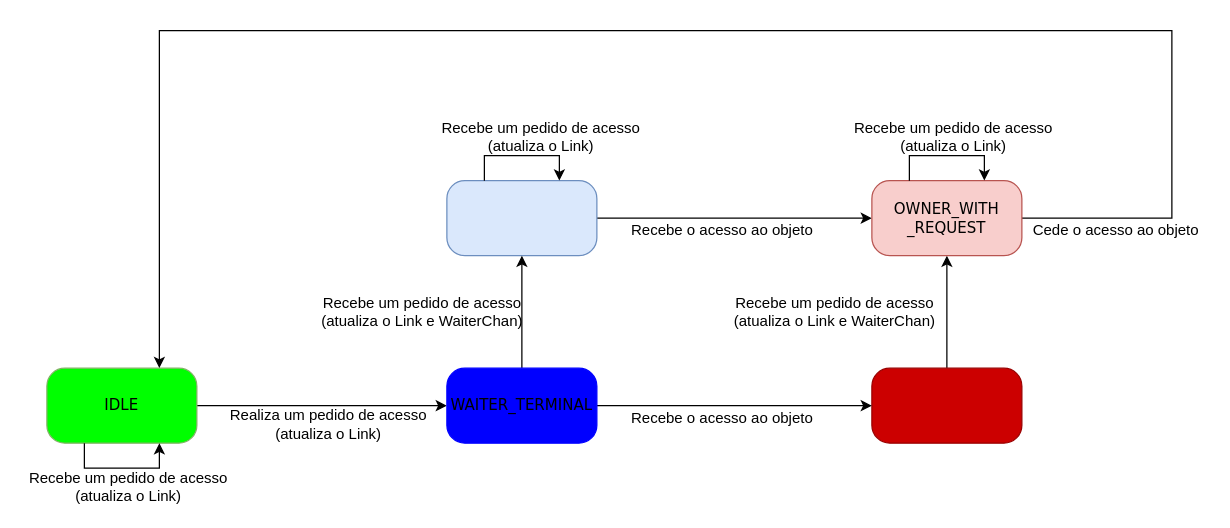
This 1230x528 diagram has some shape labels left out. The shapes that lost their labels are listed below. From the top down, each one's centre as x and y in pixels, then its label:
At point (521, 217): "WAITER_WITH _REQUEST".
At point (946, 405): "OWNER_TERMINAL".
